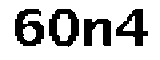0: (47, 3, 81, 52)
4: (113, 4, 150, 49)
6: (10, 5, 46, 50)
n: (81, 14, 113, 51)
